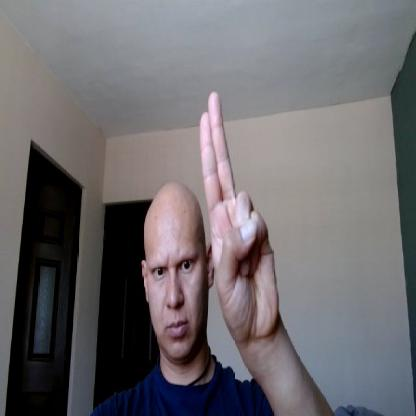U: (200, 87, 279, 343)
